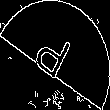P_SW: (31, 24, 79, 86)
